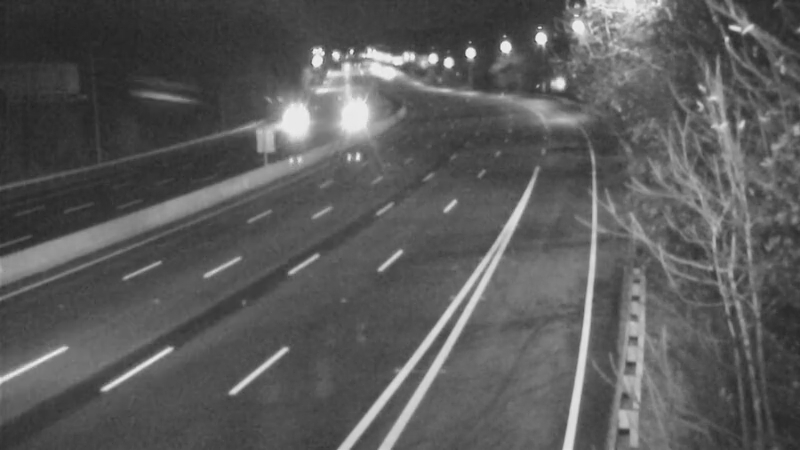vehicle: (267, 98, 317, 148), (334, 93, 384, 143)
